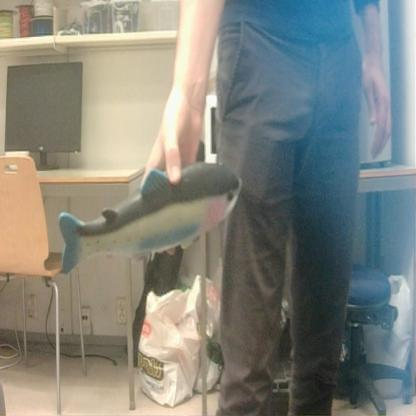rubberfish: (56, 152, 245, 280)
